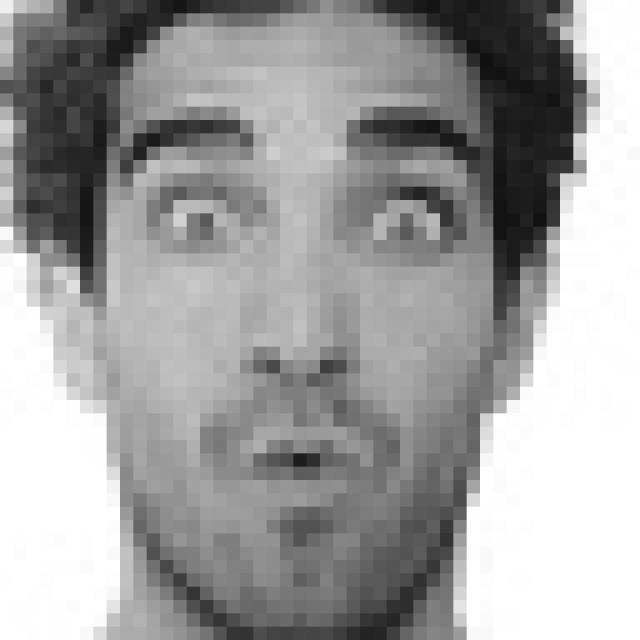surprise: (116, 106, 490, 515)
